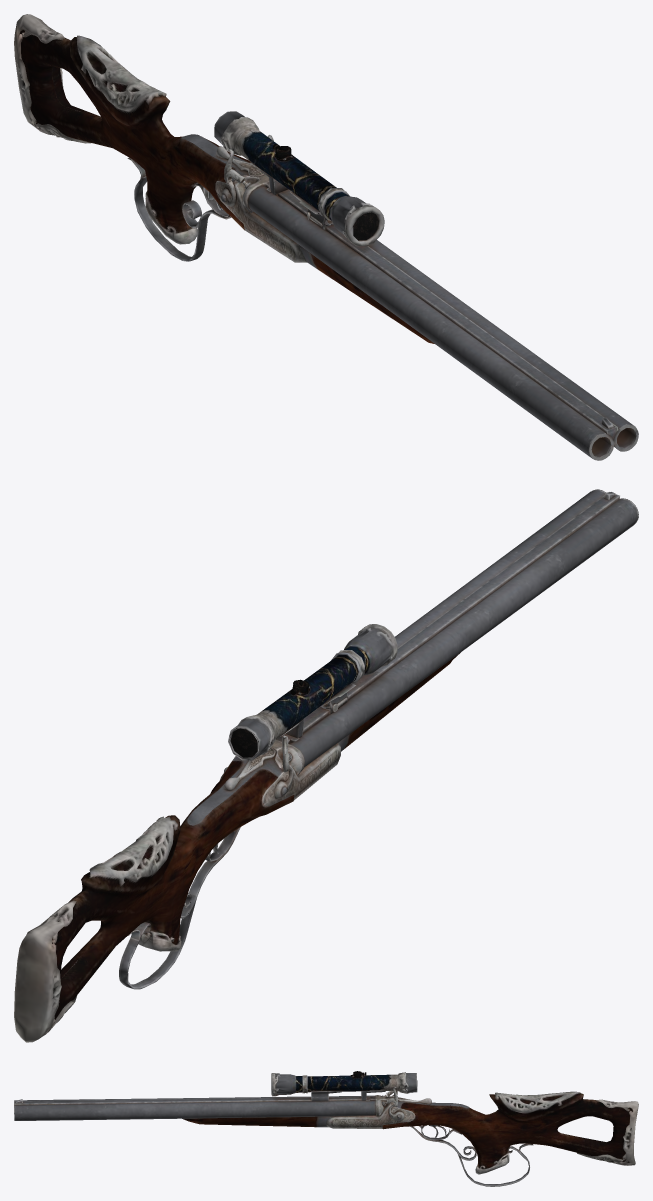
File: Shotgun_Avci.fbx
3 views of the same model, one above another, from view 1: azimuth 30°, elevation 25°; view 2: azimuth 150°, elevation 25°; view 3: azimuth 270°, elevation 25° (orthographic). The views are drawn at different scales.
Visible parts, largest first — view 1: GunMesh; view 2: GunMesh; view 3: GunMesh.
Boxes of the visible parts, x1=… form: GunMesh: x1=14, y1=14, x2=638, y2=460; GunMesh: x1=14, y1=489, x2=638, y2=1042; GunMesh: x1=14, y1=1071, x2=638, y2=1186.
Bounding box in the file's own units: 0.0681 × 0.2143 × 1.1.
1 material, 1 textured.
